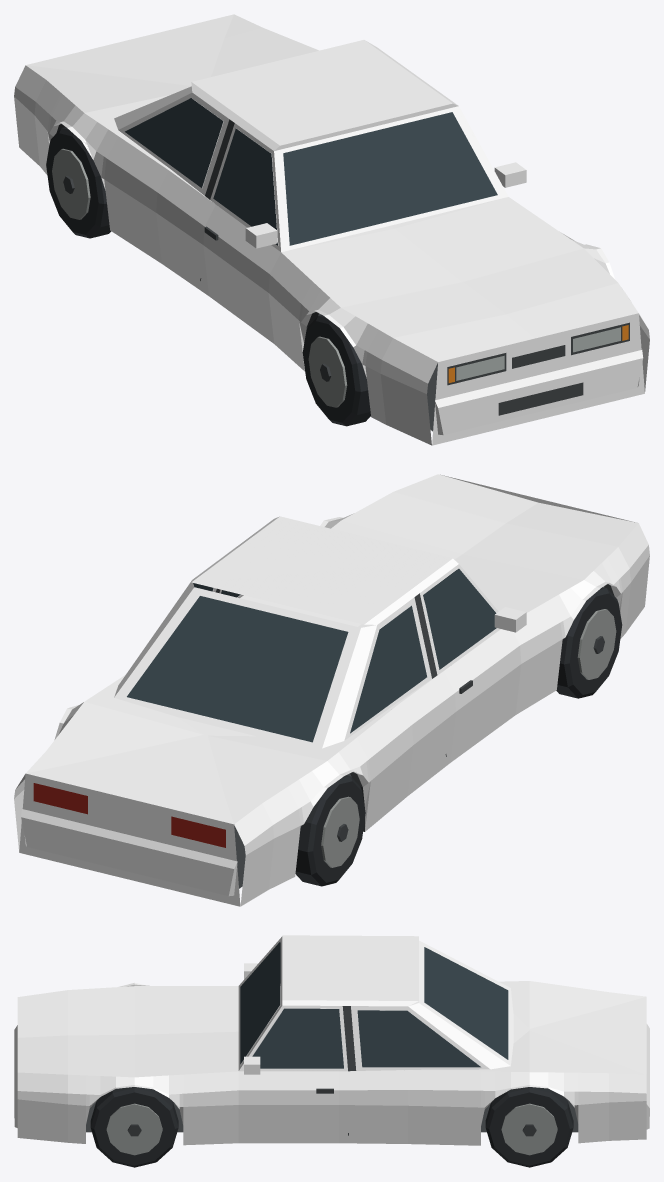
File: ashby_stockade.glb
3 renders of one model, top to bottom at view 1: azimuth 30°, elevation 25°; view 2: azimuth 150°, elevation 25°; view 3: azimuth 270°, elevation 25°, orthographic. The views are drawn at different scales.
Visible parts, largest first — view 1: ashby_stockade; view 2: ashby_stockade; view 3: ashby_stockade.
Part boxes in pixels (x1,y1,x2,y2): ashby_stockade: [14, 14, 649, 445]; ashby_stockade: [14, 474, 649, 906]; ashby_stockade: [14, 935, 649, 1167].
Size of the model in its own units: 1.82 by 1.23 by 4.7.
Materials: 8 (1 with a texture image).
